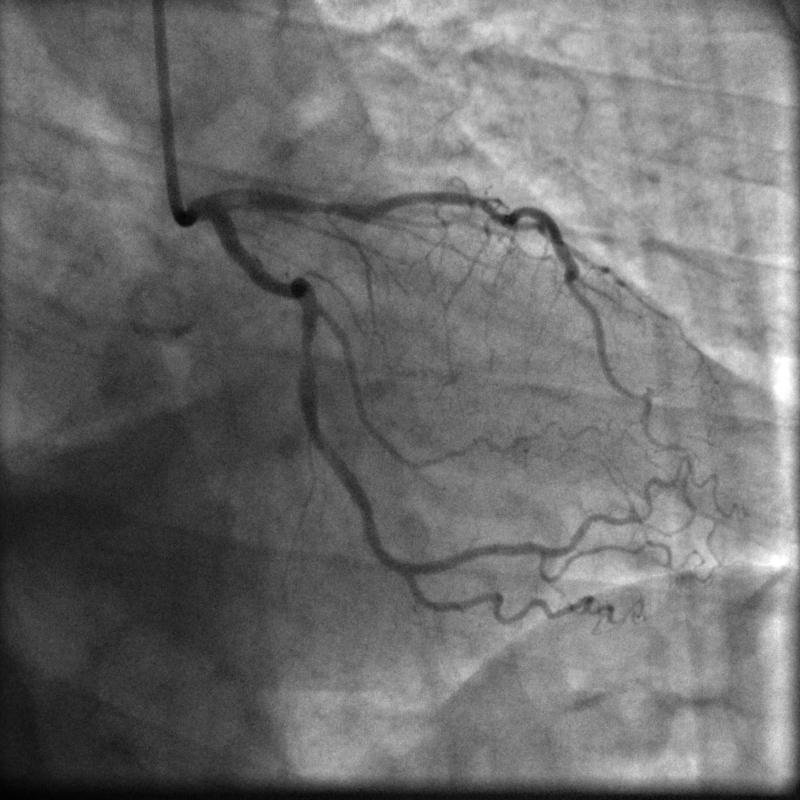Stenosis: (298, 340, 314, 362)
